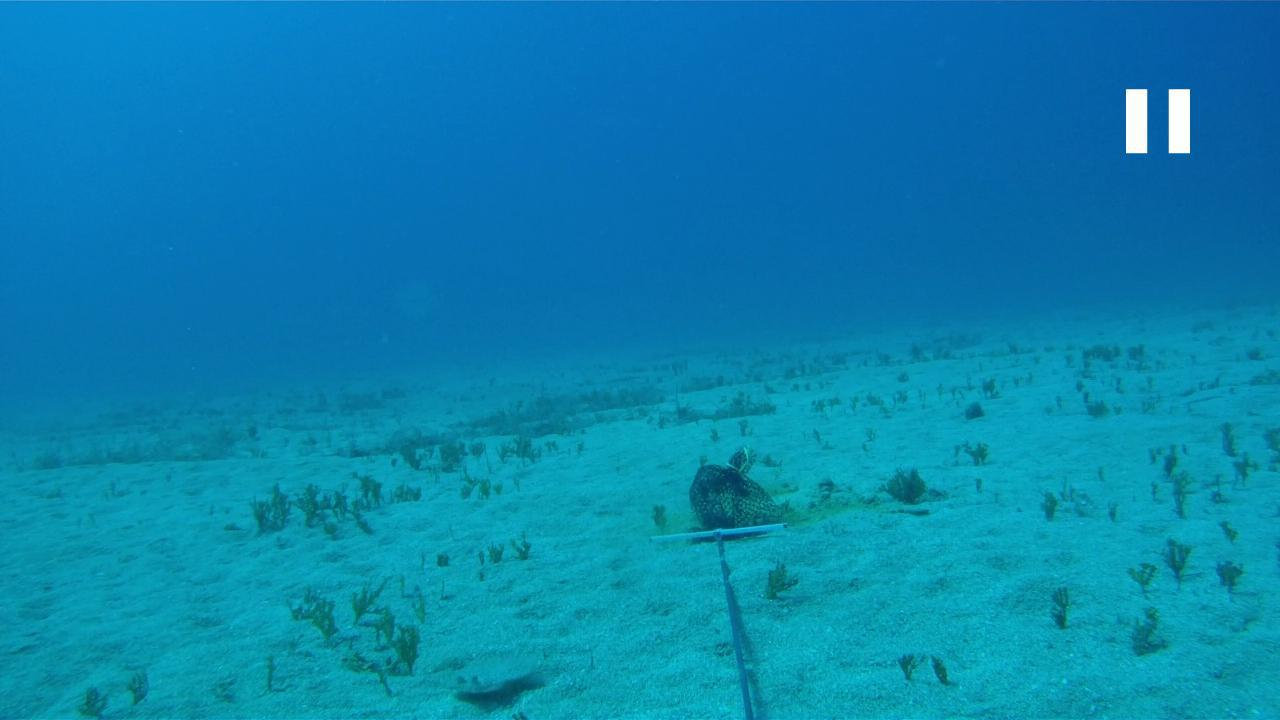bothus: (438, 652, 546, 704)
